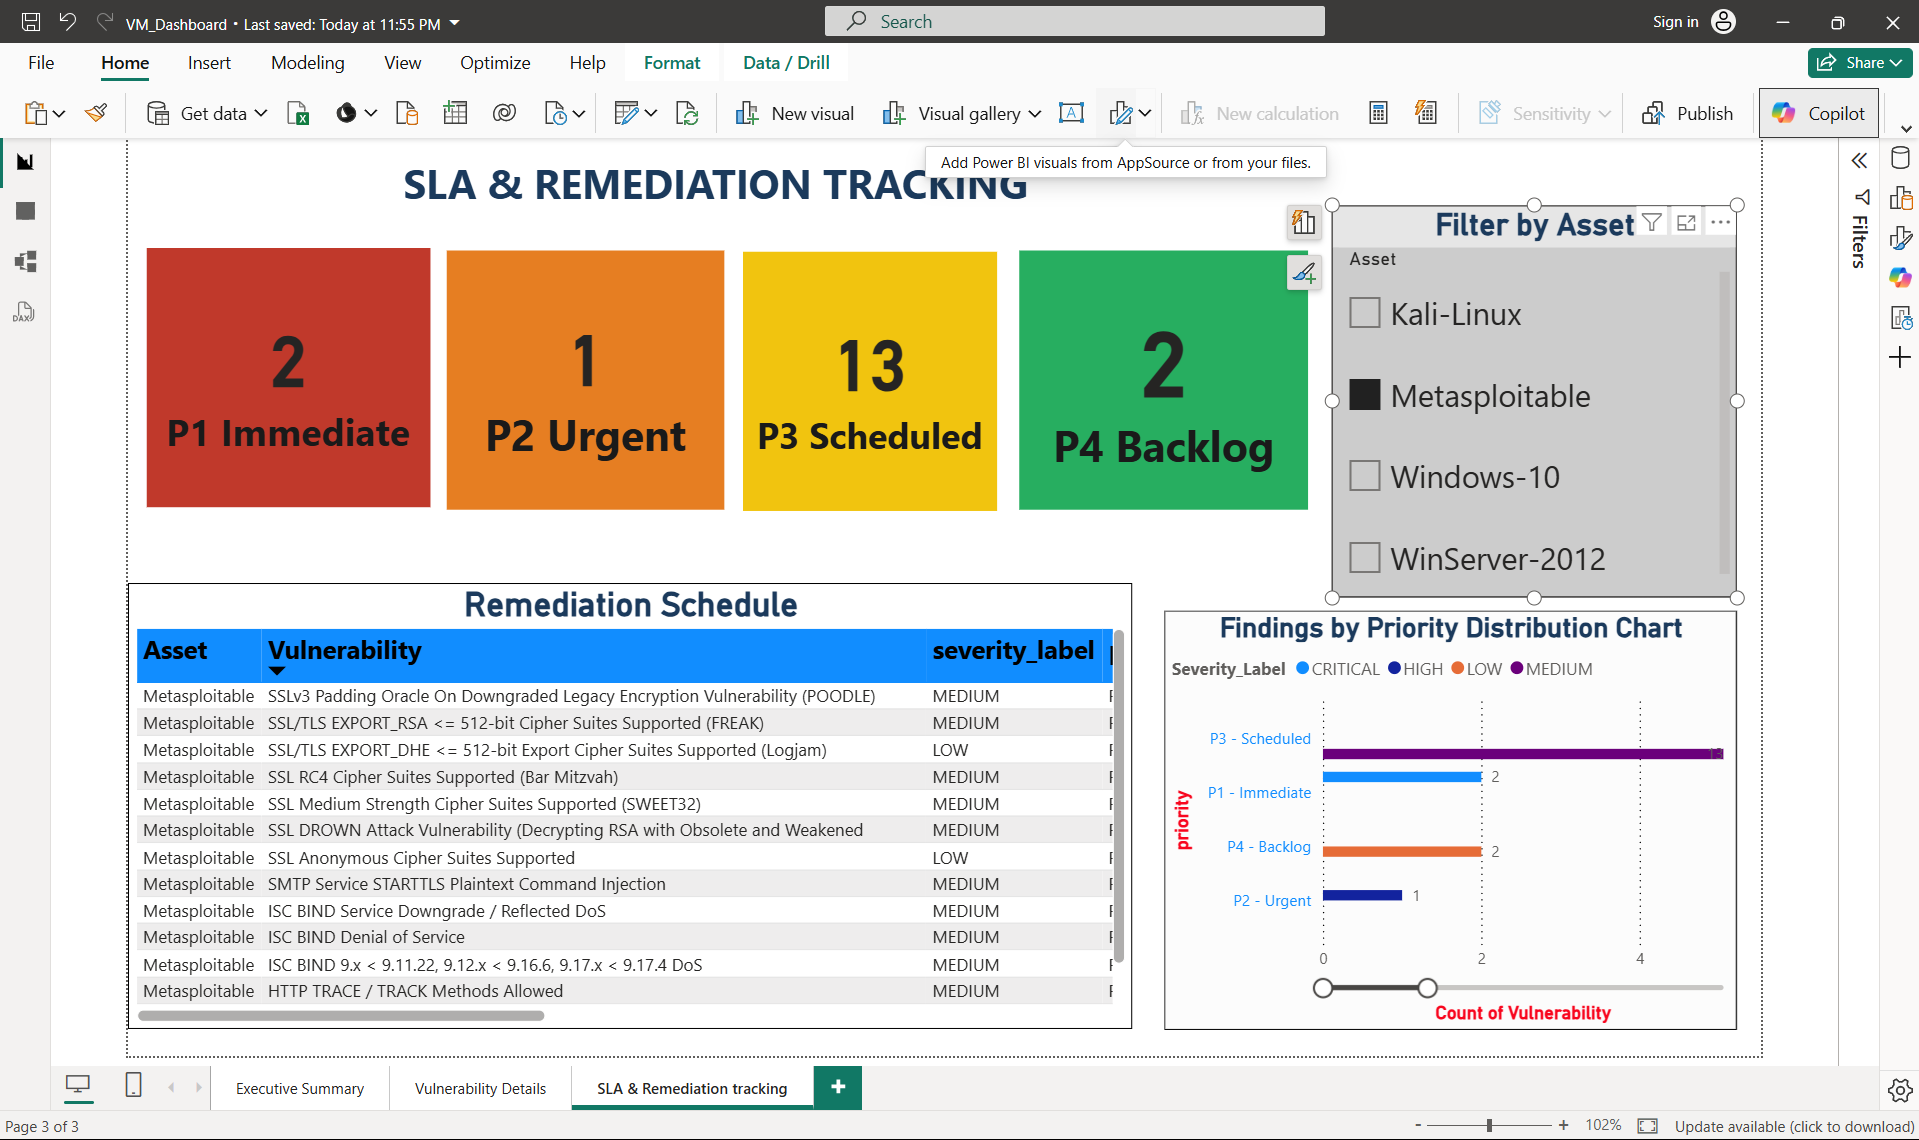

This screenshot's page, from the dashboard's own definition file:
{"tool":"powerbi","page":{"name":"SLA & Remediation tracking","canvas":[1280,720],"ordinal":2},"visuals":[{"type":"card","fields":{"Values":["cve_findings.P1 Immediate"]},"box":[14.4,86.6,222.2,203.4],"z":0},{"type":"card","fields":{"Values":["cve_findings.P2 Urgent"]},"box":[249.6,88,217.9,203.4],"z":1000},{"type":"card","fields":{"Values":["cve_findings.P3 Scheduled"]},"box":[481.9,89.5,199.1,203.4],"z":2000},{"type":"card","fields":{"Values":["cve_findings.P4 Backlog"]},"box":[698.3,88,226.5,203.4],"z":3000},{"type":"tableEx","title":"Remediation Schedule","fields":{"Values":["cve_findings.Asset","cve_findings.Vulnerability","cve_findings.severity_label","cve_findings.priority","cve_findings.CVE","cve_findings.sla_status","cve_findings.remediation_due.Variation.Date Hierarchy.Year","cve_findings.remediation_due.Variation.Date Hierarchy.Quarter","cve_findings.remediation_due.Variation.Date Hierarchy.Month","cve_findings.remediation_due.Variation.Date Hierarchy.Day"]},"box":[0,348.8,787.4,350],"z":4000},{"type":"clusteredBarChart","title":"Findings by Priority Distribution Chart","fields":{"Category":["cve_findings.priority"],"Y":["CountNonNull(cve_findings.Vulnerability)"],"Series":["cve_findings.severity_label"]},"box":[812.3,370.8,448.7,328.9],"z":5000},{"type":"slicer","title":"Filter by Asset ","fields":{"Values":["cve_findings.Asset"]},"box":[943.6,53.4,317.4,307.3],"z":6000},{"type":"textbox","box":[210.6,8.7,601.6,64.9],"z":7000}]}

Visuals, with their boxes on the page's 1280x720 design canvas (x1, y1, x2, y2). These are canvas units, not pixel positions in the 1919x1140 screenshot, which may show the page scaled, cropped or inside an application window:
card - cve_findings.P1 Immediate: rect(14, 87, 237, 290)
card - cve_findings.P2 Urgent: rect(250, 88, 468, 291)
card - cve_findings.P3 Scheduled: rect(482, 90, 681, 293)
card - cve_findings.P4 Backlog: rect(698, 88, 925, 291)
"Remediation Schedule" tableEx: rect(0, 349, 787, 699)
"Findings by Priority Distribution Chart" clusteredBarChart: rect(812, 371, 1261, 700)
"Filter by Asset " slicer: rect(944, 53, 1261, 361)
textbox: rect(211, 9, 812, 74)
